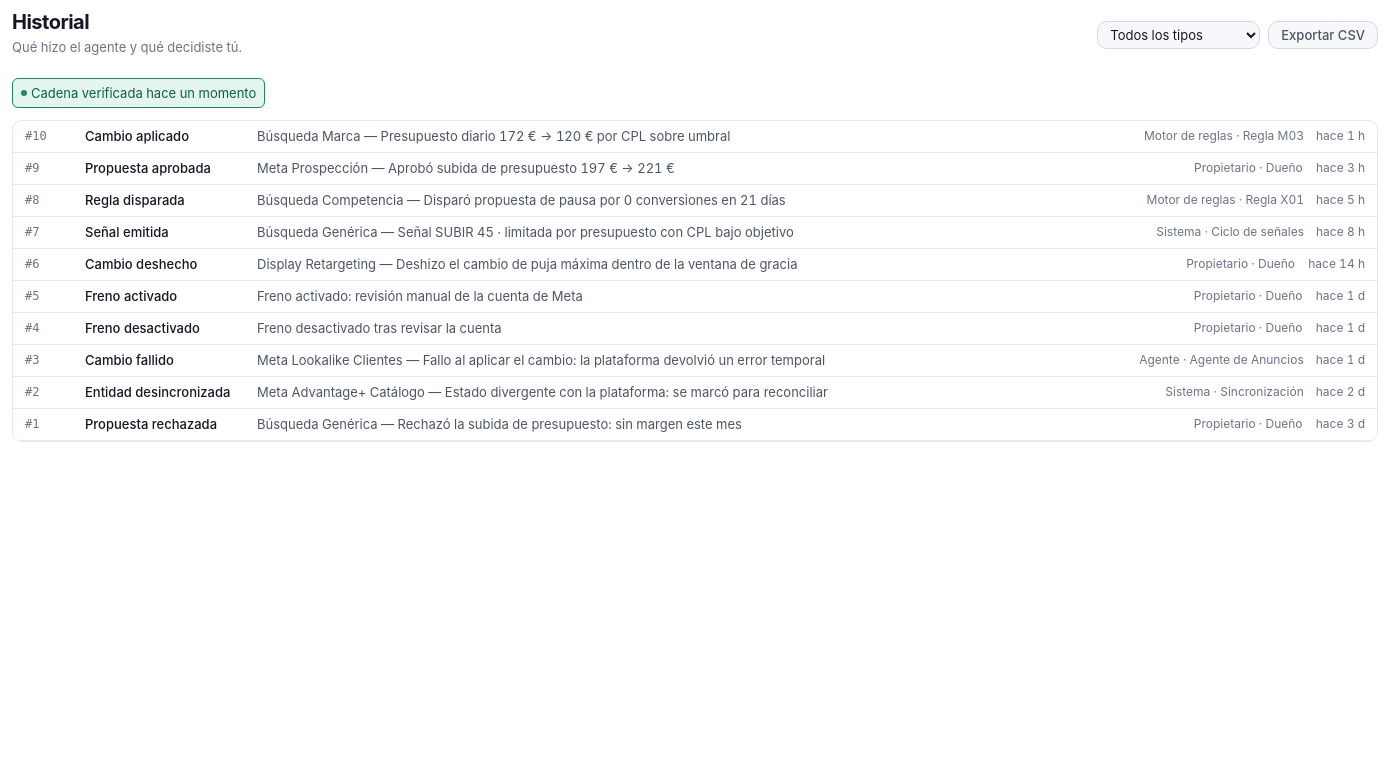
it: RegistroPage › expande una fila y muestra antes/después
Click the text "Presupuesto diario 172 € → 120 €". click: (494, 136)
box: [257,128,730,144]
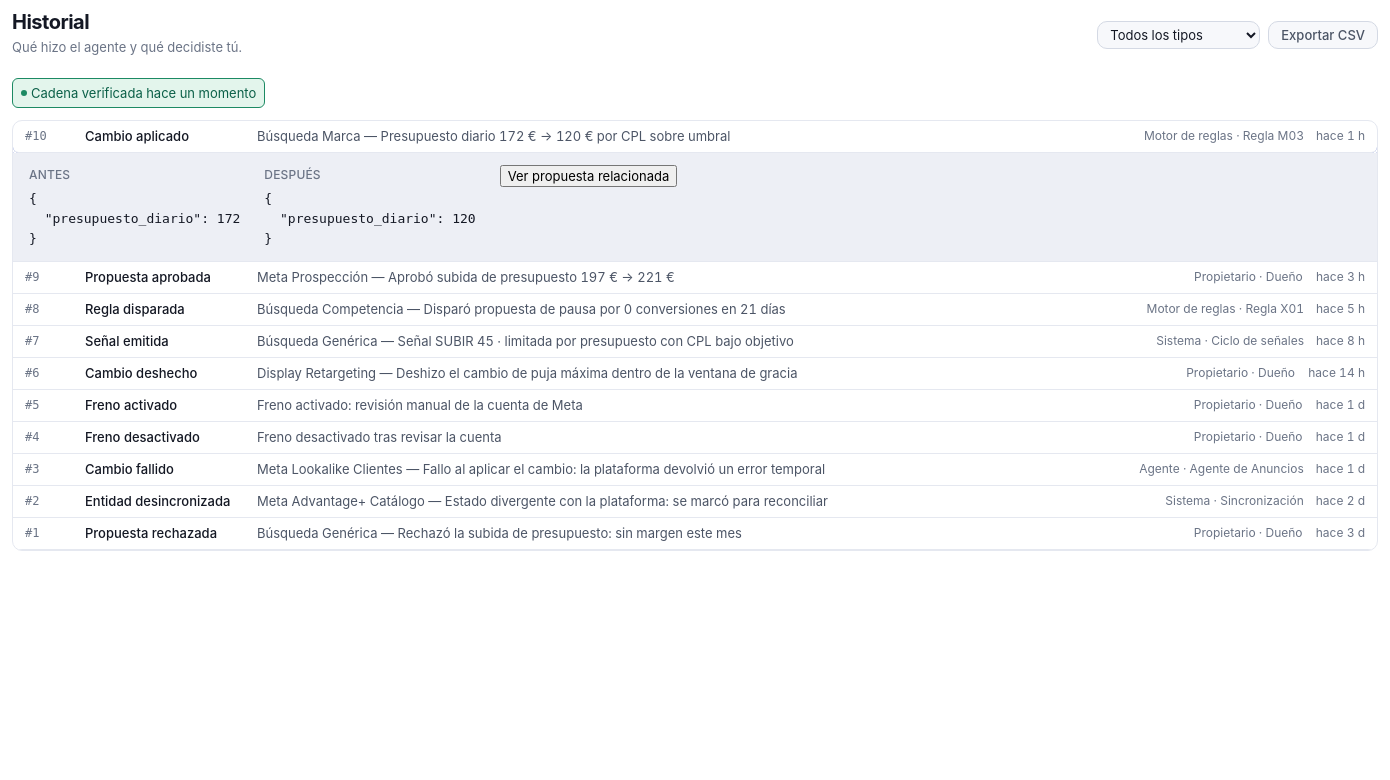
Now the text "Antes" is shown, box [29,166,70,182]
Now the text "Después" is shown, box [264,166,321,182]
